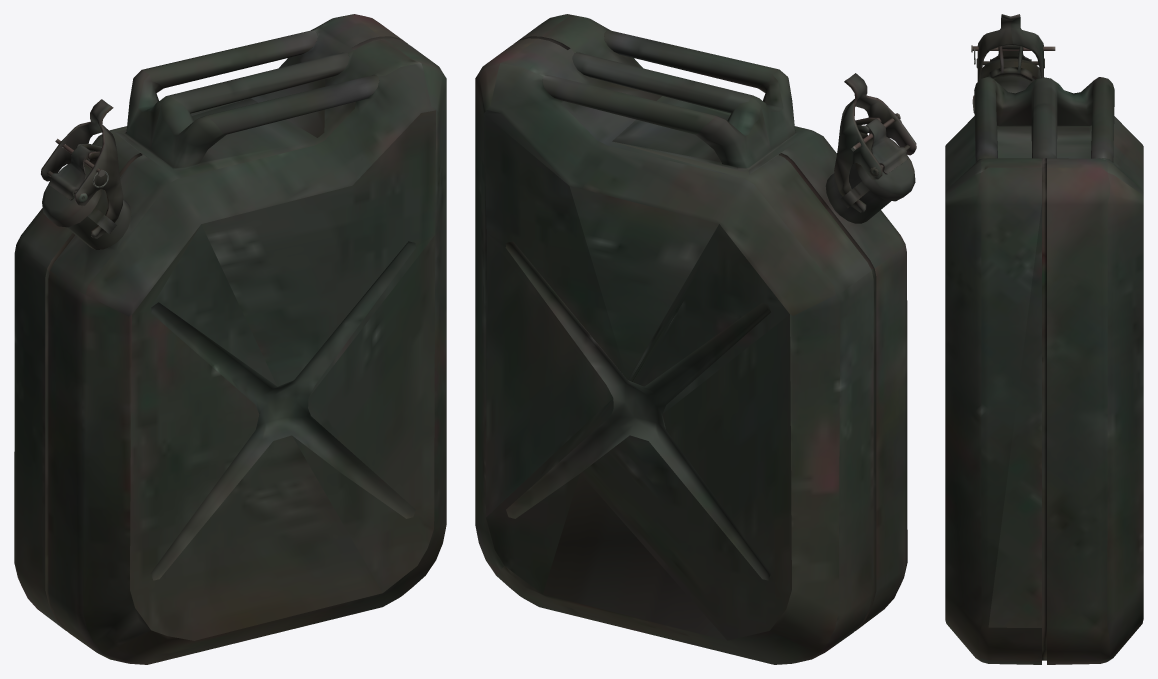
Rendered from metal_jerrycan_green.glb.
3 views of the same model, side by side, from view 1: azimuth 30°, elevation 25°; view 2: azimuth 150°, elevation 25°; view 3: azimuth 270°, elevation 25° (orthographic). The views are drawn at different scales.
Visible parts, largest first — view 1: metal_jerrycan_green_body; view 2: metal_jerrycan_green_body; view 3: metal_jerrycan_green_body.
Boxes of the visible parts, x1=… form: metal_jerrycan_green_body: x1=14, y1=14, x2=446, y2=664; metal_jerrycan_green_body: x1=475, y1=14, x2=916, y2=664; metal_jerrycan_green_body: x1=945, y1=14, x2=1143, y2=664.
Size of the model in its own units: 0.3605 by 0.5 by 0.1709.
1 material, 1 textured.
